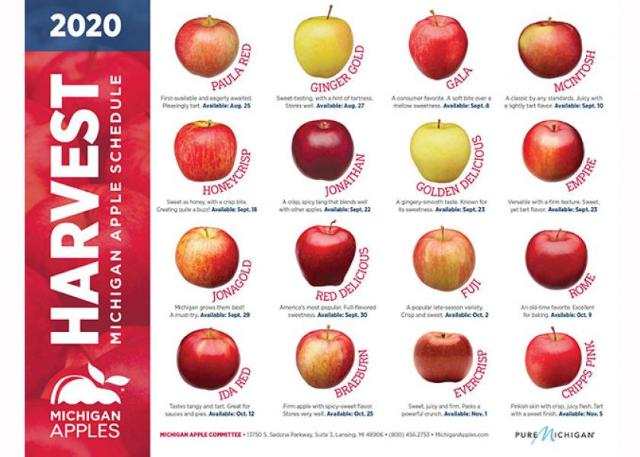red apple: (176, 227, 242, 289), (521, 120, 585, 182), (175, 121, 239, 182), (178, 330, 243, 390), (414, 229, 476, 291), (176, 18, 240, 78), (296, 223, 356, 287), (293, 121, 354, 182), (409, 16, 468, 79), (526, 231, 589, 289), (520, 22, 584, 79), (298, 328, 355, 388), (526, 333, 583, 389), (414, 332, 472, 386)
